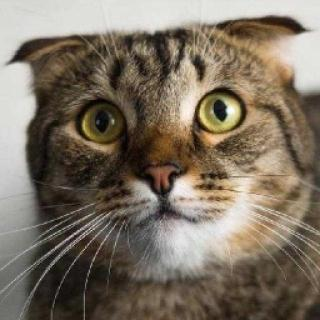cat: (24, 30, 284, 276)
nose: (140, 155, 183, 199)
